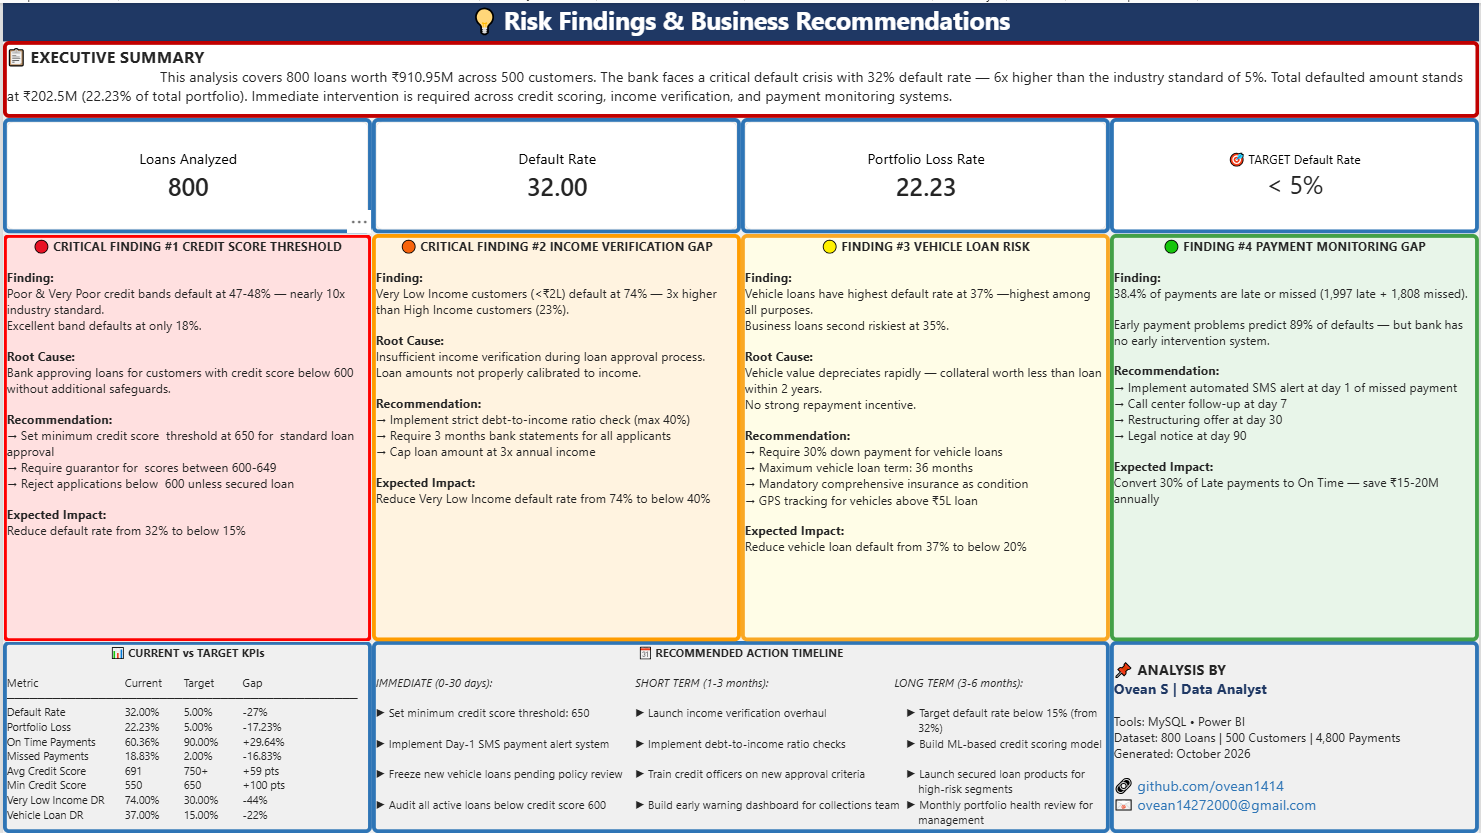

What the dashboard file says about the page in this screenshot:
{"tool":"powerbi","page":{"name":"Business Recommendation","canvas":[1920,1080],"ordinal":3},"visuals":[{"type":"textbox","box":[0,0,1920.6,50],"z":0},{"type":"textbox","box":[0,50,1920.6,100],"z":1},{"type":"cardVisual","fields":{"Data":["bank_loan vw_customer_risk.Total Loans"]},"box":[0,150,480,150],"z":2},{"type":"cardVisual","fields":{"Data":["bank_loan vw_customer_risk.Default Rate %"]},"box":[480.1,149.6,480,150],"z":3},{"type":"cardVisual","fields":{"Data":["bank_loan vw_customer_risk.Loss Rate %"]},"box":[960.3,149.6,480,150],"z":4},{"type":"textbox","box":[1440.4,149.6,480,150],"z":5},{"type":"textbox","box":[0,830.2,480,250],"z":6},{"type":"textbox","box":[480,830.2,960,250],"z":7},{"type":"textbox","box":[1440.4,830.2,480,250],"z":8},{"type":"textbox","box":[0,300,480.1,530.9],"z":9},{"type":"textbox","box":[480,300,480,530],"z":10},{"type":"textbox","box":[960,300,480,530],"z":11},{"type":"textbox","box":[1440,300,480,530],"z":12}]}

Visuals, with their boxes in screenshot pixels (x1, y1, x2, y2), scaled from the page's 1920x1080 canvas onto the 1481x833 screenshot:
textbox: [x1=0, y1=0, x2=1480, y2=39]
textbox: [x1=0, y1=39, x2=1480, y2=116]
cardVisual - bank_loan vw_customer_risk.Total Loans: [x1=0, y1=116, x2=370, y2=231]
cardVisual - bank_loan vw_customer_risk.Default Rate %: [x1=370, y1=115, x2=741, y2=231]
cardVisual - bank_loan vw_customer_risk.Loss Rate %: [x1=741, y1=115, x2=1111, y2=231]
textbox: [x1=1111, y1=115, x2=1480, y2=231]
textbox: [x1=0, y1=640, x2=370, y2=832]
textbox: [x1=370, y1=640, x2=1111, y2=832]
textbox: [x1=1111, y1=640, x2=1480, y2=832]
textbox: [x1=0, y1=231, x2=370, y2=641]
textbox: [x1=370, y1=231, x2=740, y2=640]
textbox: [x1=740, y1=231, x2=1111, y2=640]
textbox: [x1=1111, y1=231, x2=1480, y2=640]
